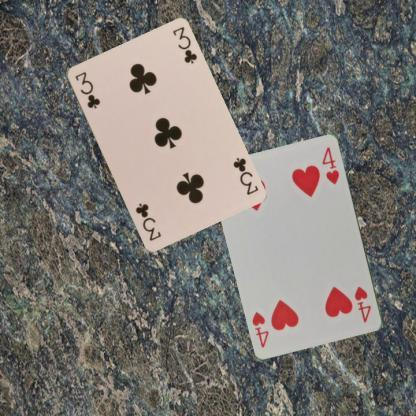3c: (230, 154, 259, 196), (72, 69, 101, 110)
4h: (352, 284, 373, 324)
